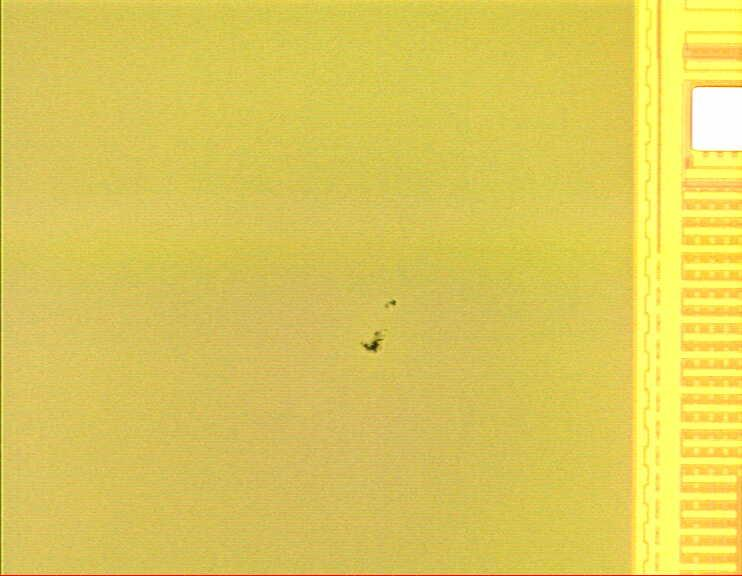PIQ PARTICLE: (358, 293, 405, 357)
